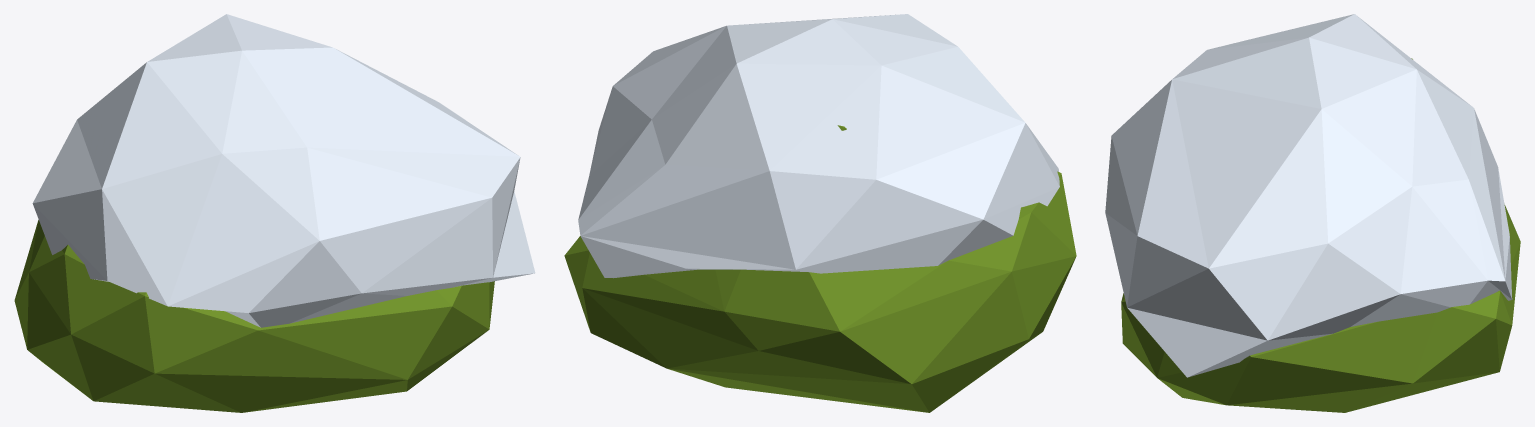
File: Bush1.fbx
The picture shows the model from 3 angles, left to right: view 1: azimuth 30°, elevation 25°; view 2: azimuth 150°, elevation 25°; view 3: azimuth 270°, elevation 25°; orthographic projection. The views are drawn at different scales.
Parts seen in each view (by area): view 1: Icosphere.014, Icosphere.006; view 2: Icosphere.014, Icosphere.006; view 3: Icosphere.014, Icosphere.006.
Part boxes in pixels (<box>): Icosphere.014: <box>32,14,535,327</box>; Icosphere.006: <box>14,220,494,412</box>; Icosphere.014: <box>578,14,1059,278</box>; Icosphere.006: <box>564,125,1076,412</box>; Icosphere.014: <box>1105,14,1512,377</box>; Icosphere.006: <box>1121,58,1520,412</box>.
Size of the model in its own units: 240 by 164 by 193.
